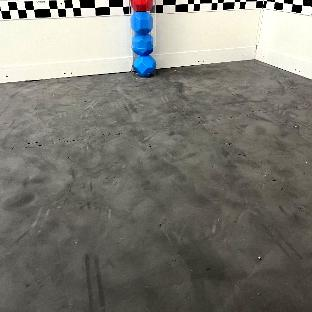V5_BLUE: (133, 54, 156, 76), (131, 32, 154, 53), (131, 11, 153, 32)
V5_RED: (131, 0, 152, 11)
